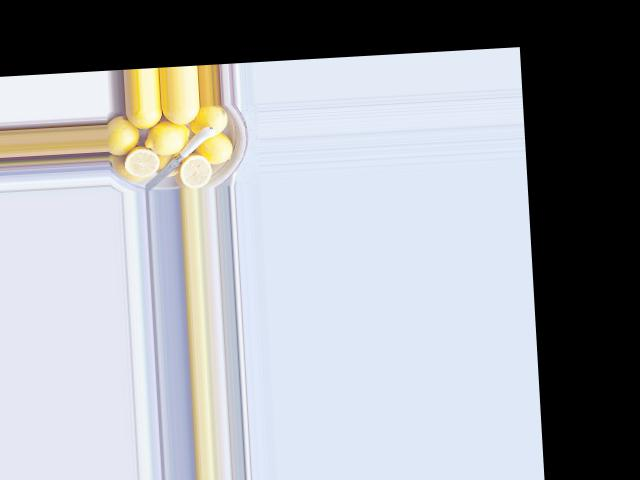lemon: (106, 115, 143, 159)
